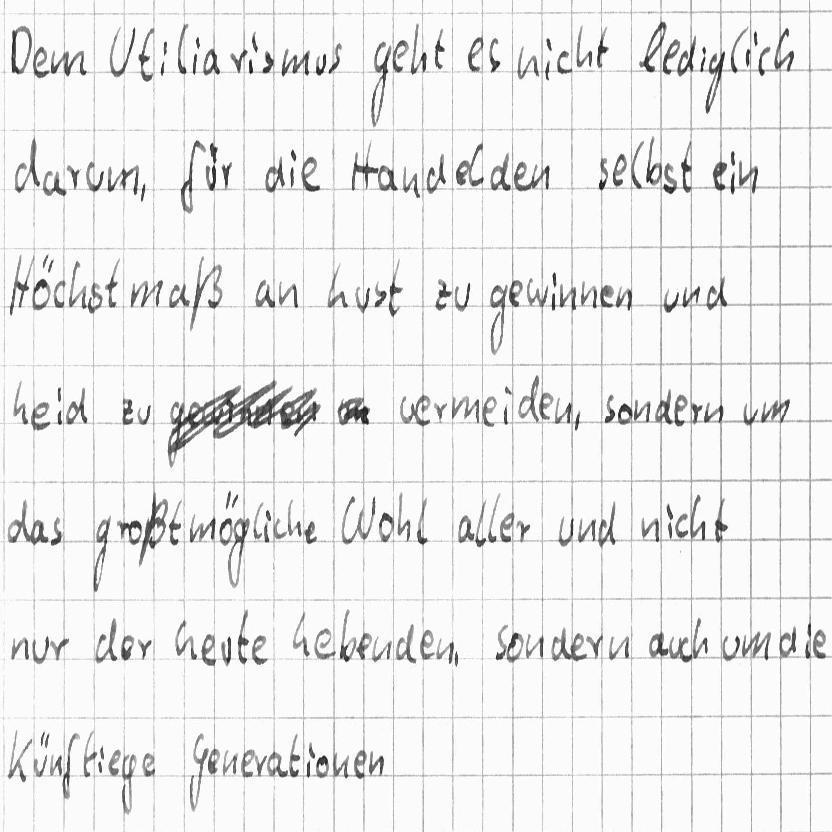Char: (189, 255, 224, 332), (136, 491, 166, 570), (366, 38, 390, 132), (340, 493, 376, 546), (178, 140, 202, 215), (227, 515, 249, 589), (90, 516, 111, 591), (638, 17, 665, 75), (30, 249, 53, 315), (6, 253, 30, 315), (5, 726, 31, 783), (12, 138, 38, 194), (107, 22, 132, 80), (487, 282, 507, 354), (704, 50, 725, 115), (188, 732, 205, 809), (324, 261, 349, 311), (92, 617, 117, 665), (8, 24, 30, 77), (61, 731, 78, 799), (51, 45, 85, 79), (129, 277, 163, 310), (106, 163, 139, 196), (336, 607, 355, 662), (217, 489, 236, 544), (137, 24, 155, 82), (387, 254, 403, 319), (7, 496, 29, 543), (291, 609, 311, 658), (120, 751, 136, 812), (773, 26, 794, 72), (173, 617, 196, 659), (351, 145, 371, 193), (596, 501, 616, 548), (728, 26, 747, 75), (280, 46, 309, 78), (488, 150, 510, 192), (676, 33, 697, 77), (743, 629, 770, 663), (32, 728, 50, 779), (452, 392, 480, 424), (395, 489, 411, 544), (68, 258, 85, 309), (66, 385, 87, 426), (396, 621, 416, 664), (515, 42, 537, 81), (573, 23, 592, 68), (519, 374, 538, 419), (104, 257, 121, 307), (761, 396, 789, 426), (705, 275, 728, 311), (690, 492, 706, 543), (300, 153, 320, 193), (415, 496, 430, 548), (189, 514, 215, 544), (236, 608, 250, 663), (263, 155, 284, 191), (549, 626, 570, 662), (696, 399, 725, 425), (712, 495, 728, 542), (412, 25, 427, 75), (336, 396, 361, 426), (167, 500, 184, 544), (13, 378, 29, 424), (430, 24, 445, 73), (556, 398, 579, 429), (82, 730, 97, 777), (631, 136, 644, 190), (431, 152, 449, 191), (646, 136, 659, 190), (470, 140, 484, 190), (692, 616, 709, 657), (487, 494, 501, 543), (466, 36, 484, 74), (679, 141, 692, 193), (375, 161, 396, 193), (606, 632, 629, 661), (31, 43, 49, 80), (662, 38, 680, 75), (31, 633, 52, 664), (176, 24, 189, 74), (741, 160, 759, 196), (530, 161, 550, 193), (43, 168, 64, 198), (719, 632, 740, 662), (438, 637, 459, 667), (250, 632, 269, 665), (474, 496, 486, 548), (276, 278, 296, 309), (392, 38, 409, 74), (558, 512, 575, 548), (200, 630, 217, 666), (402, 166, 421, 198), (778, 626, 797, 658), (86, 161, 105, 193), (287, 733, 301, 776), (527, 278, 547, 308), (206, 140, 218, 190), (640, 514, 660, 544), (649, 632, 672, 658), (415, 392, 433, 425), (512, 158, 530, 191), (31, 397, 49, 430), (506, 631, 524, 664), (314, 628, 333, 659), (255, 277, 274, 308), (578, 514, 597, 545), (596, 25, 610, 67), (655, 386, 670, 425), (612, 152, 627, 190), (452, 281, 471, 311), (456, 514, 475, 543), (596, 155, 611, 191), (202, 46, 220, 76), (579, 280, 597, 310), (740, 399, 760, 426), (267, 751, 287, 778), (662, 284, 680, 314), (288, 497, 301, 538), (219, 749, 238, 777), (372, 635, 391, 663), (435, 277, 451, 310), (420, 628, 436, 661), (167, 283, 189, 307), (563, 279, 579, 312), (481, 395, 498, 426), (86, 281, 103, 312), (331, 753, 351, 779), (728, 148, 740, 191), (801, 617, 813, 660), (8, 634, 27, 661), (399, 393, 415, 425), (671, 392, 686, 426), (240, 746, 256, 777), (500, 510, 515, 543), (633, 398, 652, 424), (494, 623, 507, 661), (53, 633, 70, 662), (255, 506, 269, 541), (711, 156, 725, 191), (352, 283, 370, 310), (683, 282, 701, 309), (368, 751, 386, 778), (488, 36, 501, 73), (508, 278, 524, 308), (538, 392, 554, 422), (377, 510, 393, 540), (570, 633, 587, 661), (525, 633, 544, 658), (352, 748, 367, 779), (502, 383, 513, 425), (53, 276, 67, 309), (117, 517, 136, 541), (745, 30, 757, 68), (356, 632, 371, 662), (260, 46, 275, 76), (140, 750, 156, 778), (50, 515, 64, 547), (603, 393, 617, 425), (64, 164, 80, 192), (219, 633, 232, 667), (29, 518, 46, 544), (329, 41, 342, 75), (247, 34, 258, 74), (599, 280, 614, 309), (675, 511, 690, 540), (219, 158, 233, 189), (456, 158, 470, 189), (617, 283, 633, 310), (550, 270, 561, 309), (120, 629, 133, 662), (228, 49, 245, 74), (543, 37, 553, 79), (371, 282, 386, 310), (54, 384, 64, 426), (677, 634, 692, 662), (287, 147, 297, 189), (158, 39, 169, 77), (555, 49, 571, 75), (815, 630, 829, 659), (119, 396, 134, 423), (758, 45, 771, 76), (663, 161, 676, 192), (303, 519, 318, 545), (588, 633, 603, 659), (303, 743, 314, 778), (137, 636, 153, 660), (617, 399, 632, 424), (48, 752, 63, 777), (107, 748, 120, 776), (516, 518, 531, 542), (136, 401, 151, 425), (190, 35, 199, 74), (314, 51, 327, 78), (315, 753, 329, 778), (664, 504, 673, 542), (206, 749, 218, 777), (254, 753, 268, 777), (433, 401, 447, 423), (273, 518, 286, 541), (699, 45, 707, 75), (138, 180, 147, 203), (97, 745, 104, 773)
